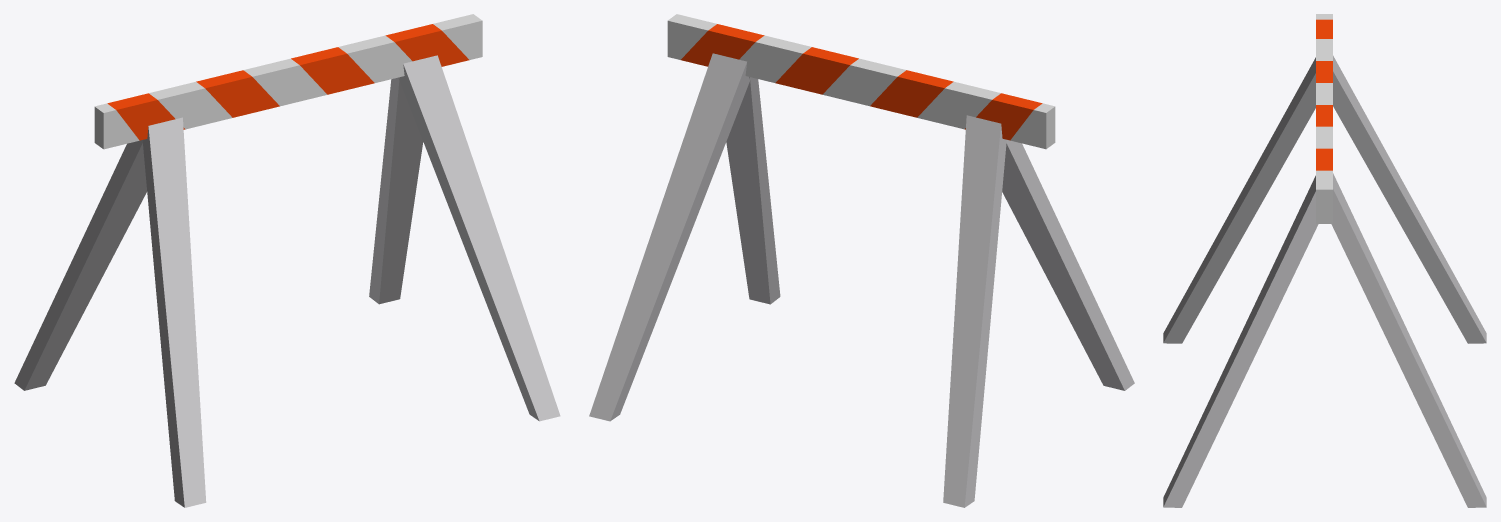
Rendered from Road Blockade.fbx.
3 renders of one model, left to right at view 1: azimuth 30°, elevation 25°; view 2: azimuth 150°, elevation 25°; view 3: azimuth 270°, elevation 25°, orthographic. The views are drawn at different scales.
Visible parts, largest first — view 1: Leg, Plank; view 2: Leg, Plank; view 3: Leg, Plank.
Boxes of the visible parts, x1,y1,x2,y2 form: Leg: [14, 55, 560, 507]; Plank: [94, 14, 482, 149]; Leg: [589, 53, 1134, 507]; Plank: [667, 14, 1055, 149]; Leg: [1163, 55, 1486, 507]; Plank: [1316, 14, 1332, 223].
Bounding box in the file's own units: 120 × 102 × 93.5.
